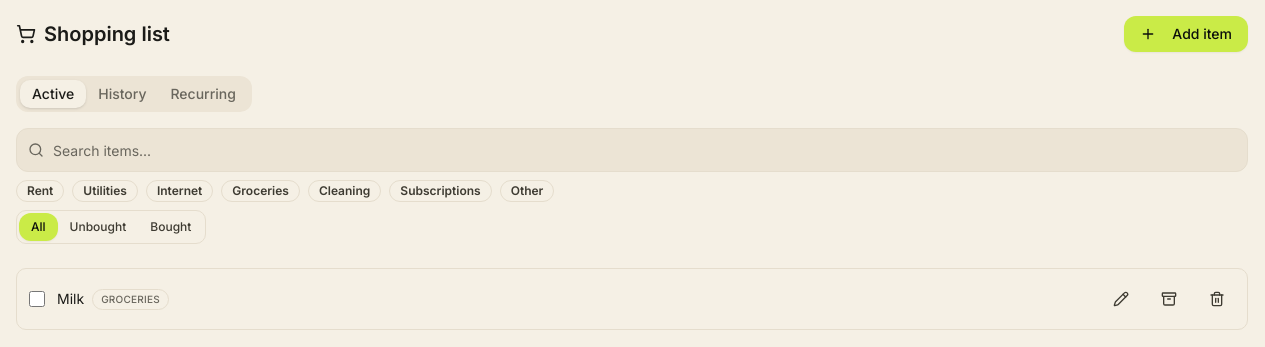
Test: <ShoppingListPage /> flows › K.4 — History tab shows previously-bought/archived items
This screenshot has width=1265, height=347.
Expected: the text "Milk" is shown, x1=57 y1=289 x2=84 y2=309
Note: Click History tab
Click the tab "History": (122, 94) x1=86 y1=80 x2=158 y2=108
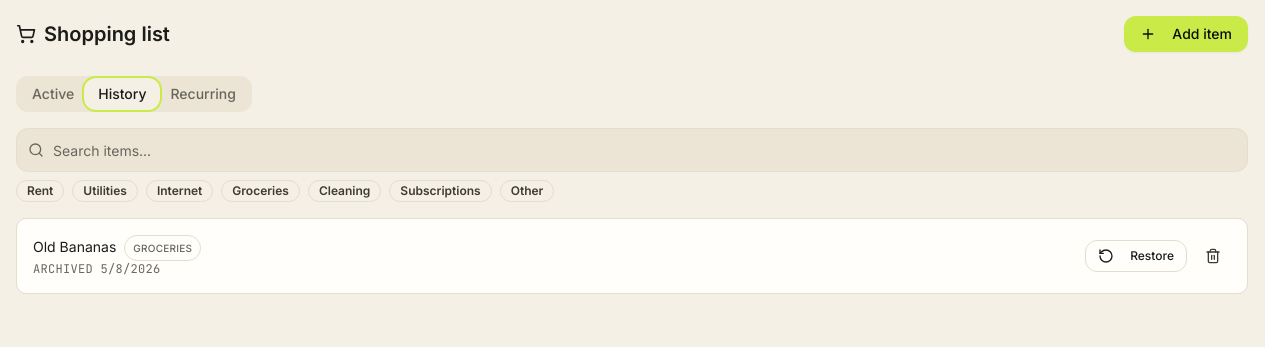
Result: the text "Old Bananas" is shown at x1=33 y1=238 x2=116 y2=255
